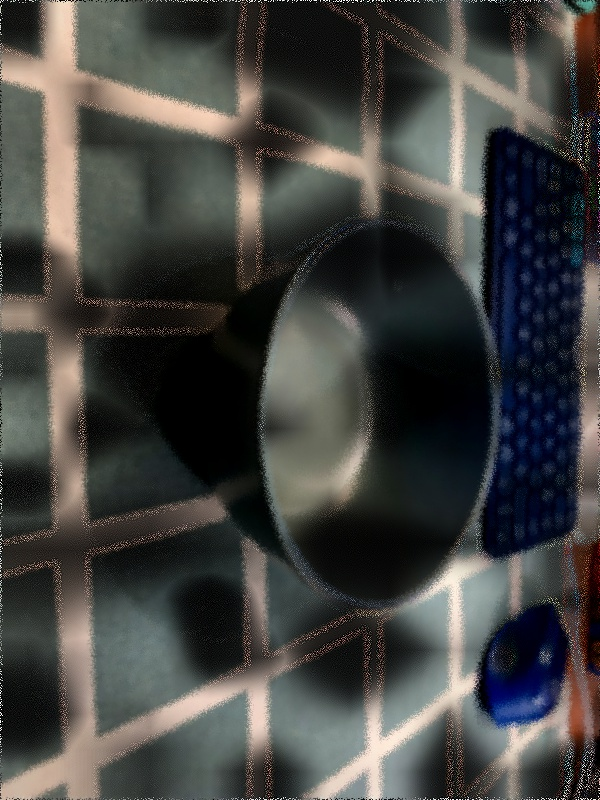bowl_big: (191, 208, 503, 623)
